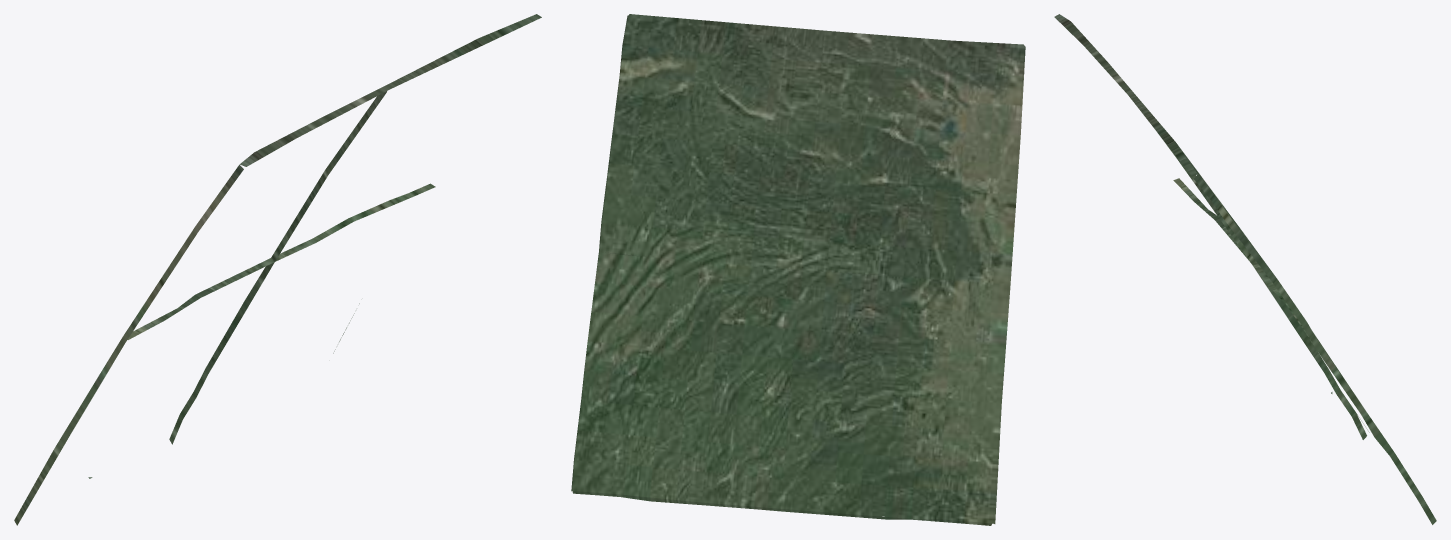
The picture shows the model from 3 angles, left to right: view 1: azimuth 30°, elevation 25°; view 2: azimuth 150°, elevation 25°; view 3: azimuth 270°, elevation 25°; orthographic projection. The views are drawn at different scales.
Size of the model in its own units: 619991 by 546656 by 493112.
1 material, 1 textured.
